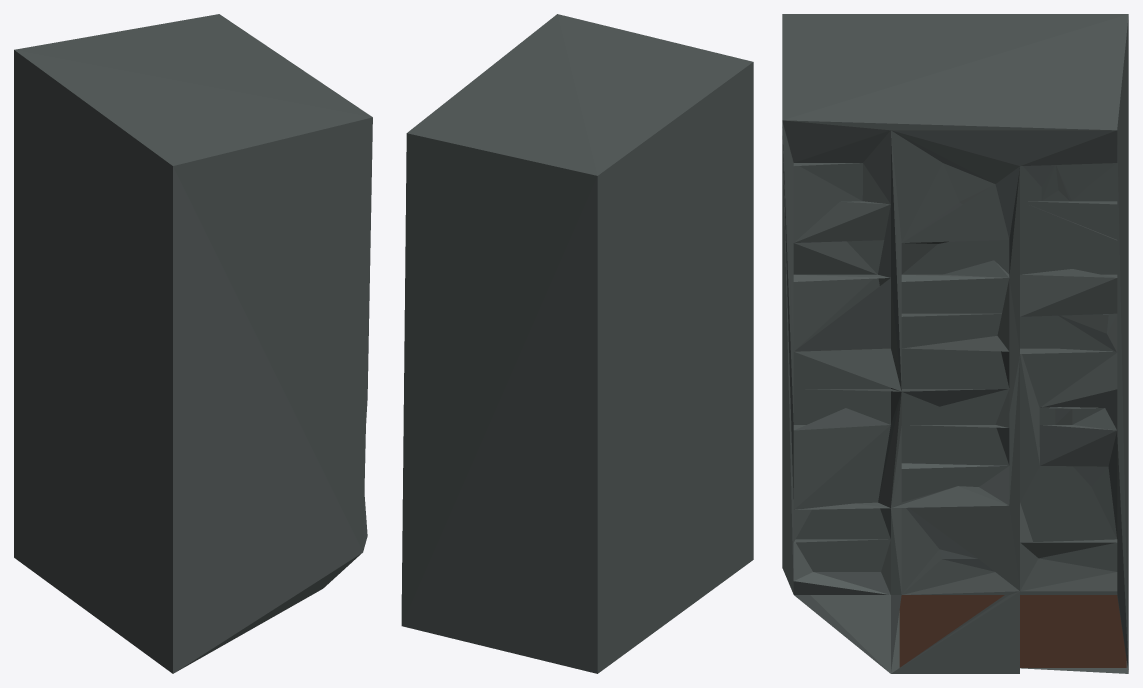
The model's file is abandoned-building.walls-v1.lod2.glb.
The picture shows the model from 3 angles, left to right: view 1: azimuth 30°, elevation 25°; view 2: azimuth 150°, elevation 25°; view 3: azimuth 270°, elevation 25°; orthographic projection. The views are drawn at different scales.
Visible parts, largest first — view 1: Cube_Material.002_0; view 2: Cube_Material.002_0; view 3: Cube_Material.002_0.
Part boxes in pixels (x1,y1,x2,y2): Cube_Material.002_0: (14, 14, 372, 673); Cube_Material.002_0: (401, 14, 753, 673); Cube_Material.002_0: (782, 14, 1128, 673).
Size of the model in its own units: 5.36 by 13 by 7.37.
